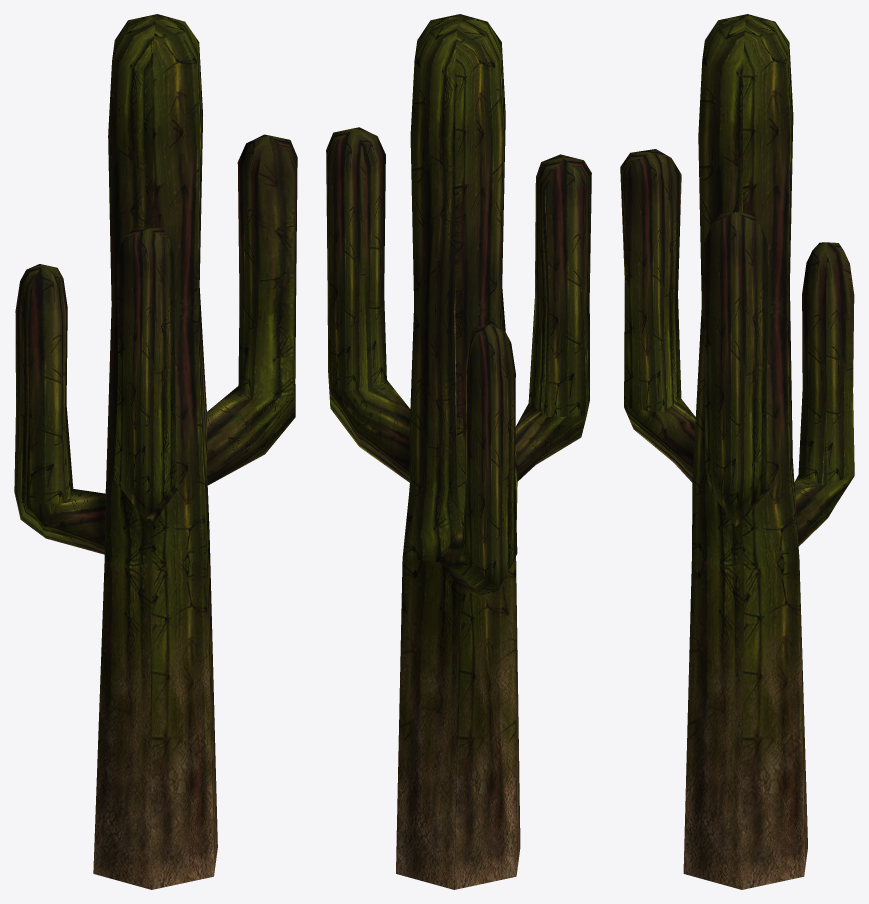
Rendered from cactus_03.fbx.
3 renders of one model, left to right at view 1: azimuth 30°, elevation 25°; view 2: azimuth 150°, elevation 25°; view 3: azimuth 270°, elevation 25°, orthographic.
Parts seen in each view (by area): view 1: Cylinder04; view 2: Cylinder04; view 3: Cylinder04.
Boxes of the visible parts, x1,y1,x2,y2 form: Cylinder04: [14, 14, 297, 889]; Cylinder04: [326, 14, 591, 889]; Cylinder04: [620, 14, 854, 889].
Size of the model in its own units: 3.72 by 13.02 by 3.29.
